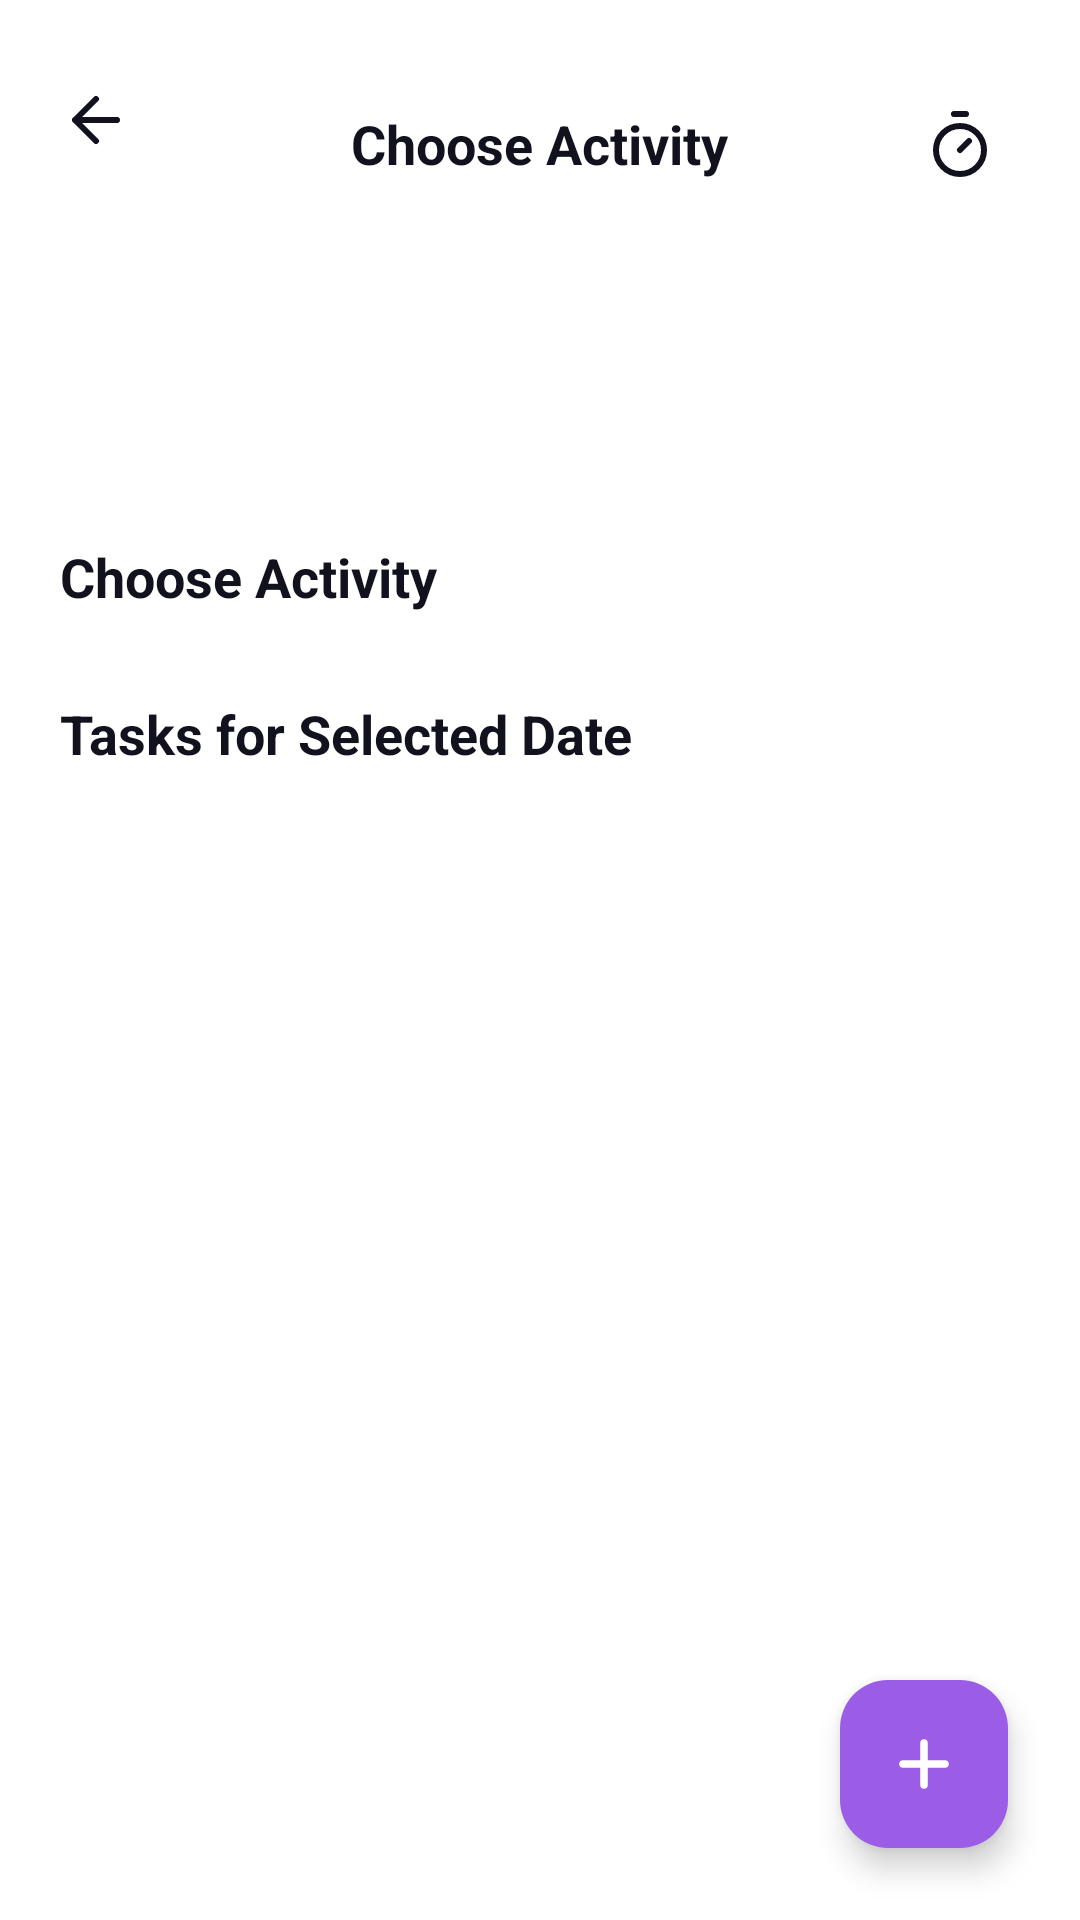

Locate icon controls on the screen. Image size 1080 x 1920, boxes as (x1, y1, x2, y2).
back: (72, 96, 120, 144)
Create Task: (840, 1680, 1008, 1848)
timer: (933, 111, 987, 177)
